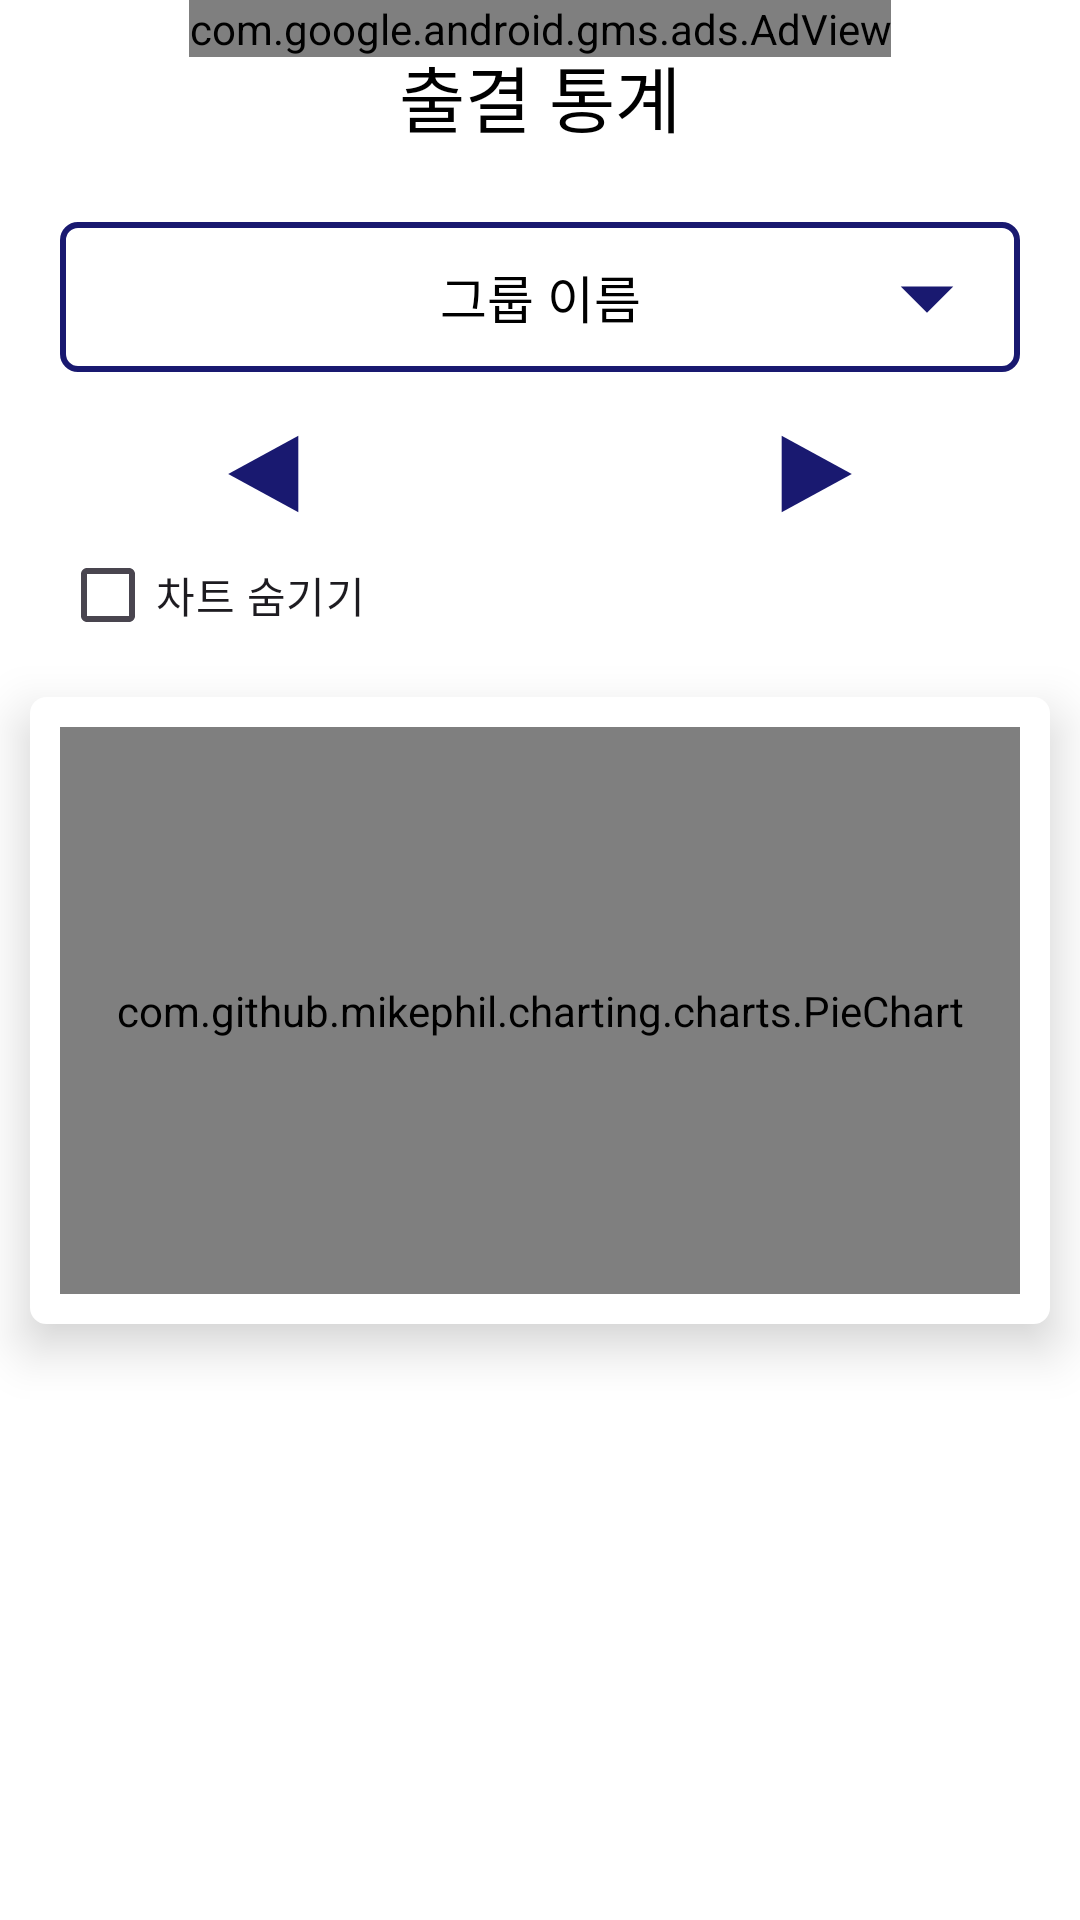

Where to tap for icons on this 1080x1920 app screen, as (x,y):
arrow left: (263,474)
arrow right: (816,474)
textView안에 있는 화살표: (927,299)
